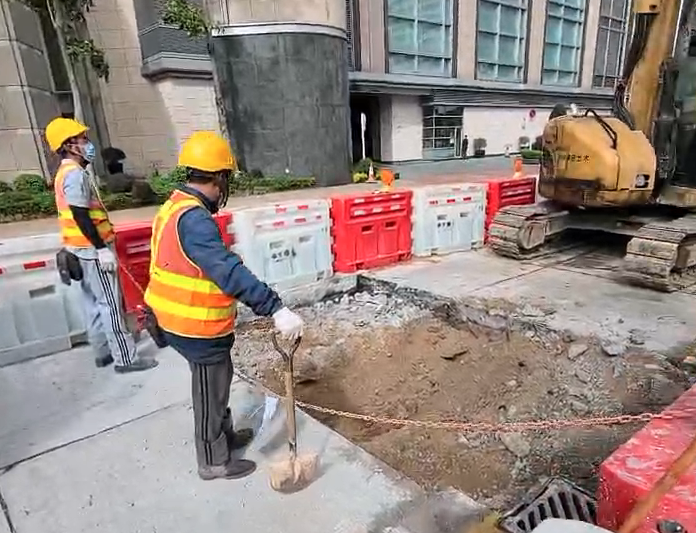Hard Hat: (178, 132, 237, 203), (45, 117, 98, 164)
Person: (148, 131, 286, 479), (43, 116, 146, 373)
Vest: (146, 175, 245, 336), (52, 152, 117, 249)
